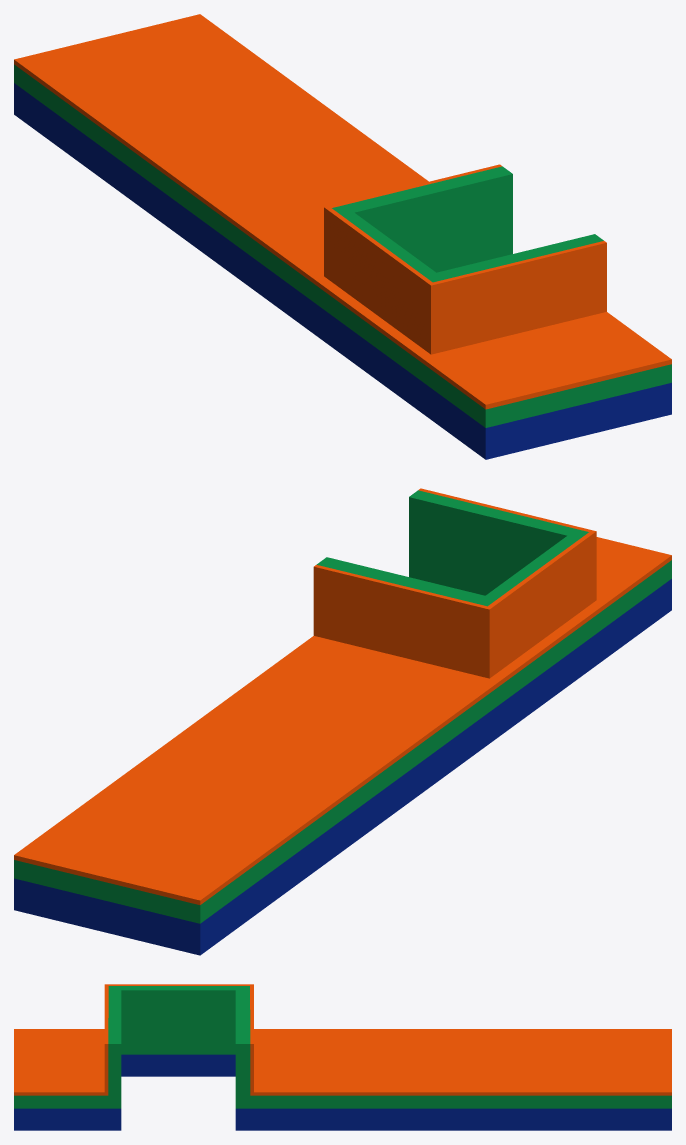
File: Krisha.FBX
The picture shows the model from 3 angles, top to bottom: view 1: azimuth 30°, elevation 25°; view 2: azimuth 150°, elevation 25°; view 3: azimuth 270°, elevation 25°; orthographic projection. The views are drawn at different scales.
Visible parts, largest first — view 1: _Krisha; view 2: _Krisha; view 3: _Krisha.
Boxes of the visible parts, x1,y1,x2,y2 form: _Krisha: (14,14,671,459); _Krisha: (14,488,671,955); _Krisha: (14,984,671,1130).
Size of the model in its own units: 1050 by 669 by 4607.
